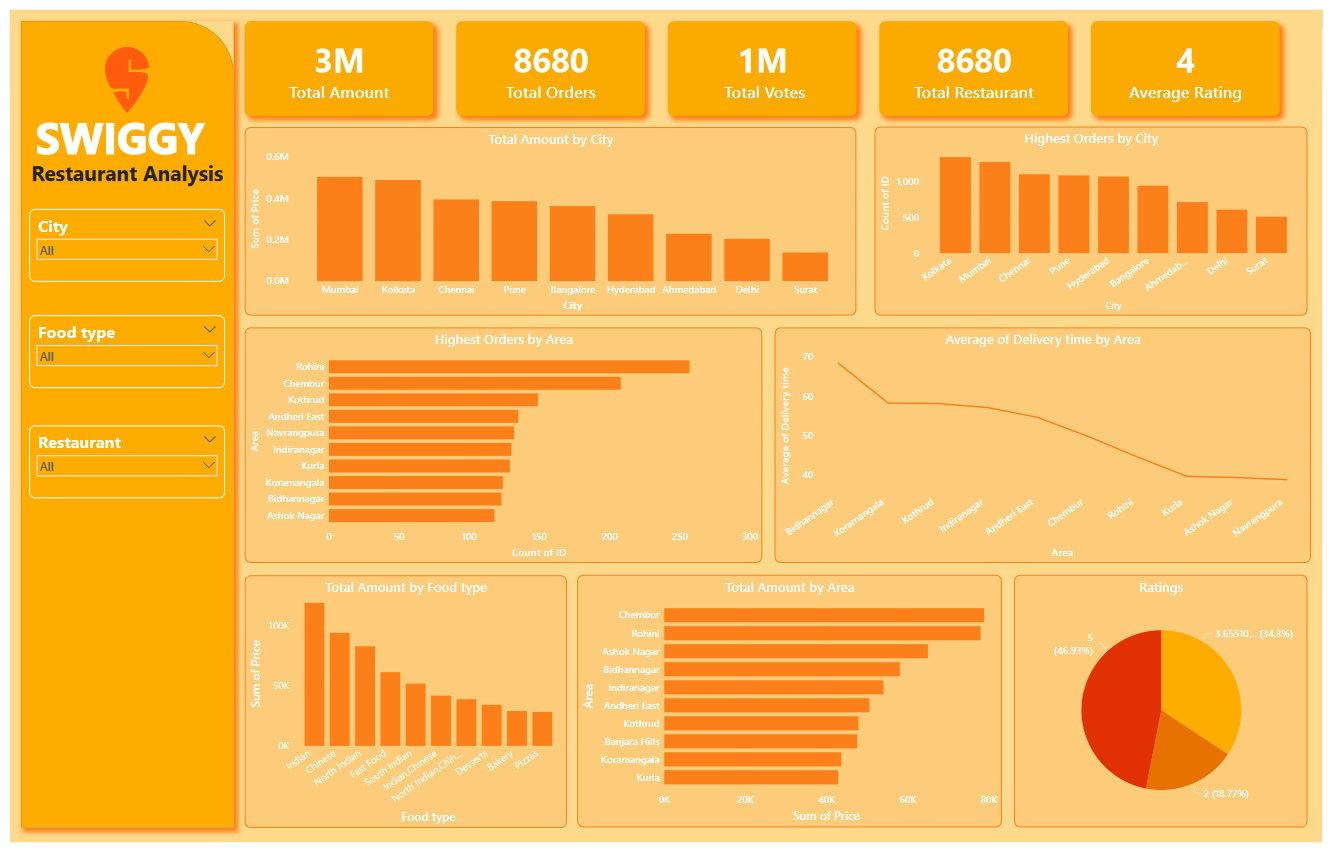

Layout of this report page (visuals, bound fields, positions):
{"tool":"powerbi","page":{"name":"Page 1","canvas":[2680,1700],"ordinal":0},"visuals":[{"type":"shape","box":[23.3,23.3,433.5,1646.5],"z":0},{"type":"clusteredColumnChart","title":"Highest Orders by City","fields":{"Category":["swiggy.City"],"Y":["CountNonNull(swiggy.ID)"]},"box":[1766.1,239.3,883,384.6],"z":1000},{"type":"pieChart","title":"Ratings","fields":{"Y":["Avg(swiggy.Avg ratings)","Min(swiggy.Avg ratings)","Max(swiggy.Avg ratings)"]},"box":[2050.9,1153.7,598.2,515.6],"z":2000},{"type":"columnChart","title":"Total  Amount by City","fields":{"Category":["swiggy.City"],"Y":["Sum(swiggy.Price)"]},"box":[480,240,1248,384],"z":3000},{"type":"lineChart","fields":{"Category":["swiggy.Area"],"Y":["Avg(swiggy.Delivery time)"]},"box":[1562.2,648.7,1093.8,480],"z":4000},{"type":"columnChart","title":"Total Amount by Food type","fields":{"Category":["swiggy.Food type"],"Y":["Sum(swiggy.Price)"]},"box":[480,1154.9,657.5,514.9],"z":5000},{"type":"clusteredBarChart","title":"Total Amount by Area","fields":{"Category":["swiggy.Area"],"Y":["Sum(swiggy.Price)"]},"box":[1159.4,1153.7,866,515.6],"z":6000},{"type":"clusteredBarChart","title":"Highest Orders by Area","fields":{"Category":["swiggy.Area"],"Y":["CountNonNull(swiggy.ID)"]},"box":[480,648.7,1056,480],"z":7000},{"type":"card","fields":{"Values":["Sum(swiggy.Price)"]},"box":[480,24,384,192],"z":8000},{"type":"card","fields":{"Values":["CountNonNull(swiggy.ID)"]},"box":[912,24,384,192],"z":9000},{"type":"card","fields":{"Values":["Avg(swiggy.Avg ratings)"]},"box":[2208,24,384,192],"z":10000},{"type":"card","fields":{"Values":["CountNonNull(swiggy.Restaurant)"]},"box":[1776,24,384,192],"z":11000},{"type":"card","fields":{"Values":["Sum(swiggy.total votes)"]},"box":[1344,24,384,192],"z":12000},{"type":"textbox","box":[48.4,193.7,381.7,139.6],"z":13000},{"type":"image","box":[111.1,48.4,256.4,190.9],"z":14000},{"type":"textbox","box":[22.8,299.1,433,68.4],"z":15000},{"type":"slicer","fields":{"Values":["swiggy.City"]},"box":[39.9,407.3,398.8,148.1],"z":16000},{"type":"slicer","fields":{"Values":["swiggy.Food type"]},"box":[39.9,623.8,398.8,148.1],"z":16001},{"type":"slicer","fields":{"Values":["swiggy.Restaurant"]},"box":[39.9,848.9,398.8,148.1],"z":16002}]}

Visuals, with their boxes in screenshot pixels (x1, y1, x2, y2), scaled from the page's 2680x1700 canvas onto the 1329x854 screenshot:
shape: 12, 12, 227, 839
"Highest Orders by City" clusteredColumnChart: 876, 120, 1314, 313
"Ratings" pieChart: 1017, 580, 1314, 839
"Total  Amount by City" columnChart: 238, 121, 857, 313
lineChart - swiggy.Area x Avg(swiggy.Delivery time): 775, 326, 1317, 567
"Total Amount by Food type" columnChart: 238, 580, 564, 839
"Total Amount by Area" clusteredBarChart: 575, 580, 1004, 839
"Highest Orders by Area" clusteredBarChart: 238, 326, 762, 567
card - Sum(swiggy.Price): 238, 12, 428, 109
card - CountNonNull(swiggy.ID): 452, 12, 643, 109
card - Avg(swiggy.Avg ratings): 1095, 12, 1285, 109
card - CountNonNull(swiggy.Restaurant): 881, 12, 1071, 109
card - Sum(swiggy.total votes): 666, 12, 857, 109
textbox: 24, 97, 213, 167
image: 55, 24, 182, 120
textbox: 11, 150, 226, 185
slicer - swiggy.City: 20, 205, 218, 279
slicer - swiggy.Food type: 20, 313, 218, 388
slicer - swiggy.Restaurant: 20, 426, 218, 501
